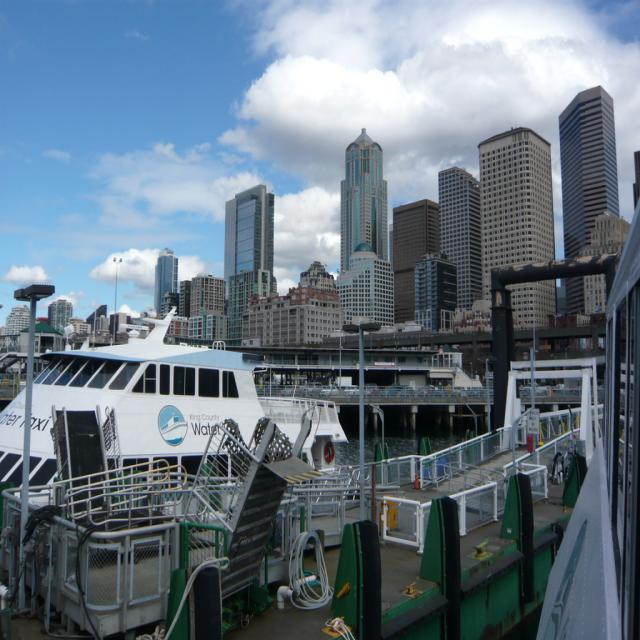Boat: (0, 301, 349, 614), (536, 145, 640, 640)
